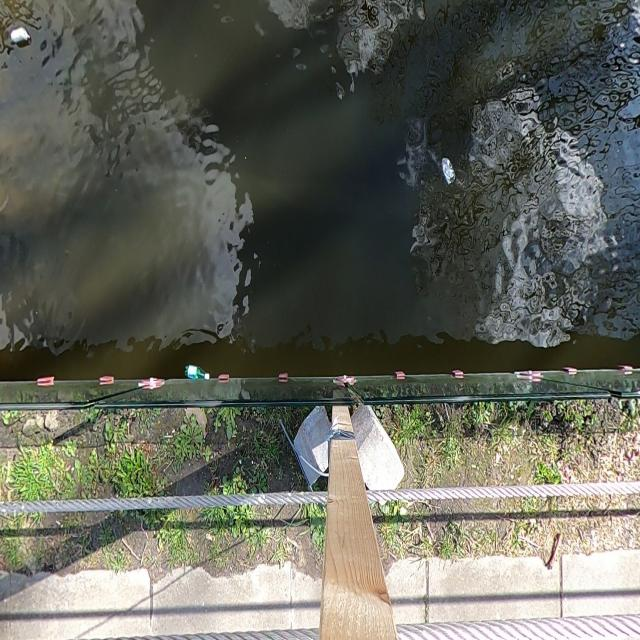Bouteille plastique: (180, 360, 210, 382)
Non plastique: (7, 22, 31, 47)
Sac plastique: (437, 150, 462, 193)
